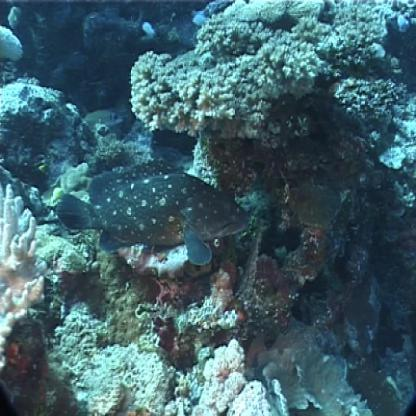grouper: (55, 157, 254, 272)
